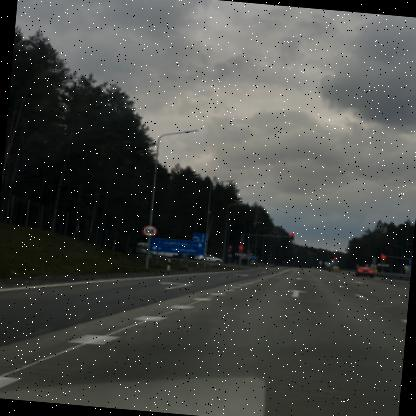speedlimit: (145, 224, 159, 236)
